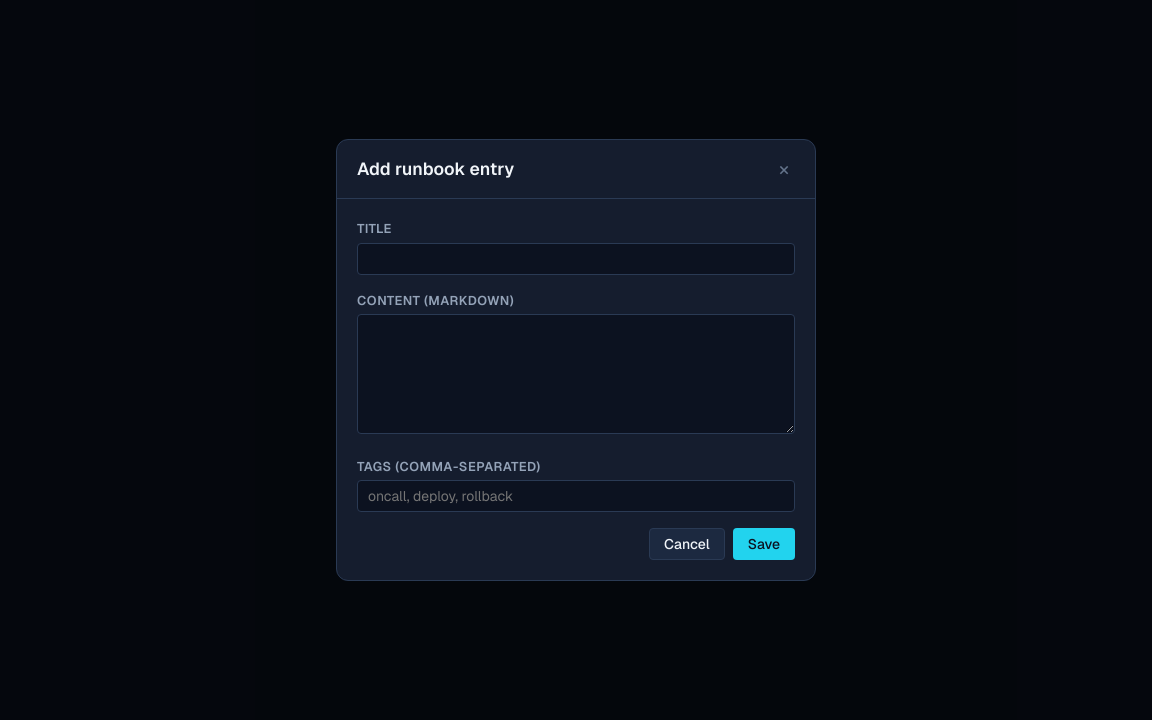
Scenario: RunbookEditor › shows server error message when apiPost throws
Step 1. Type "t" into the 1st field → (576, 259), box top-left (357, 243), bottom-right (795, 275)
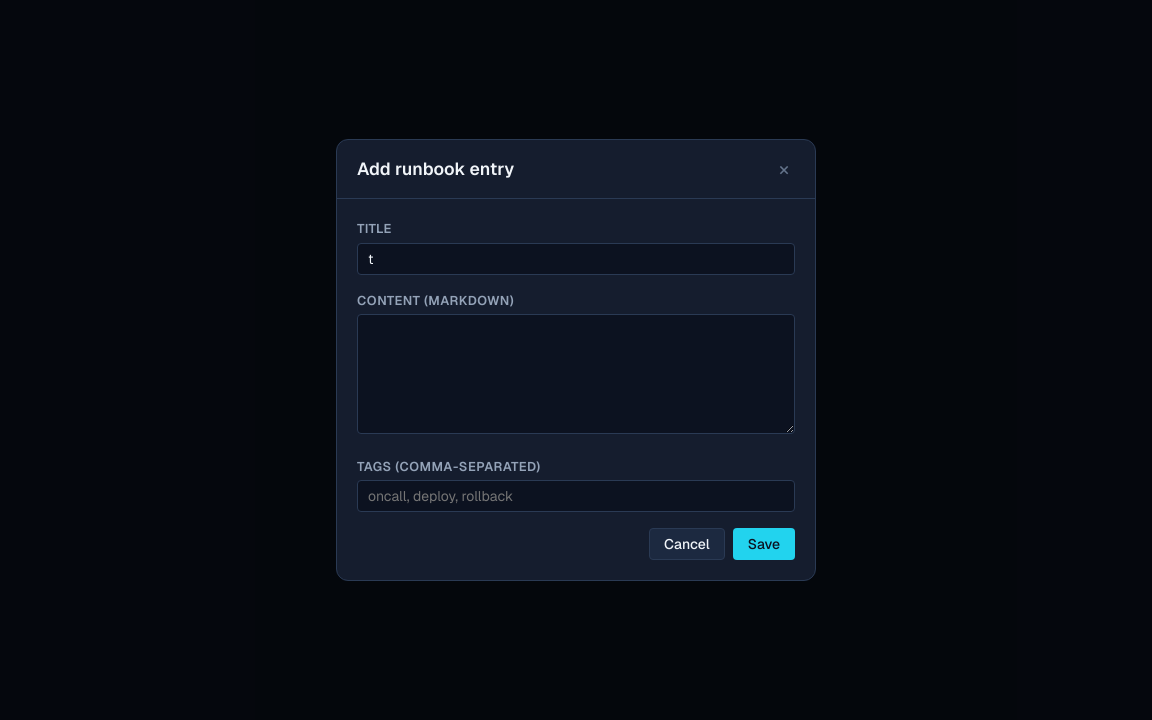
Step 2. Type "c" into the text box → (576, 374), box top-left (357, 314), bottom-right (795, 434)
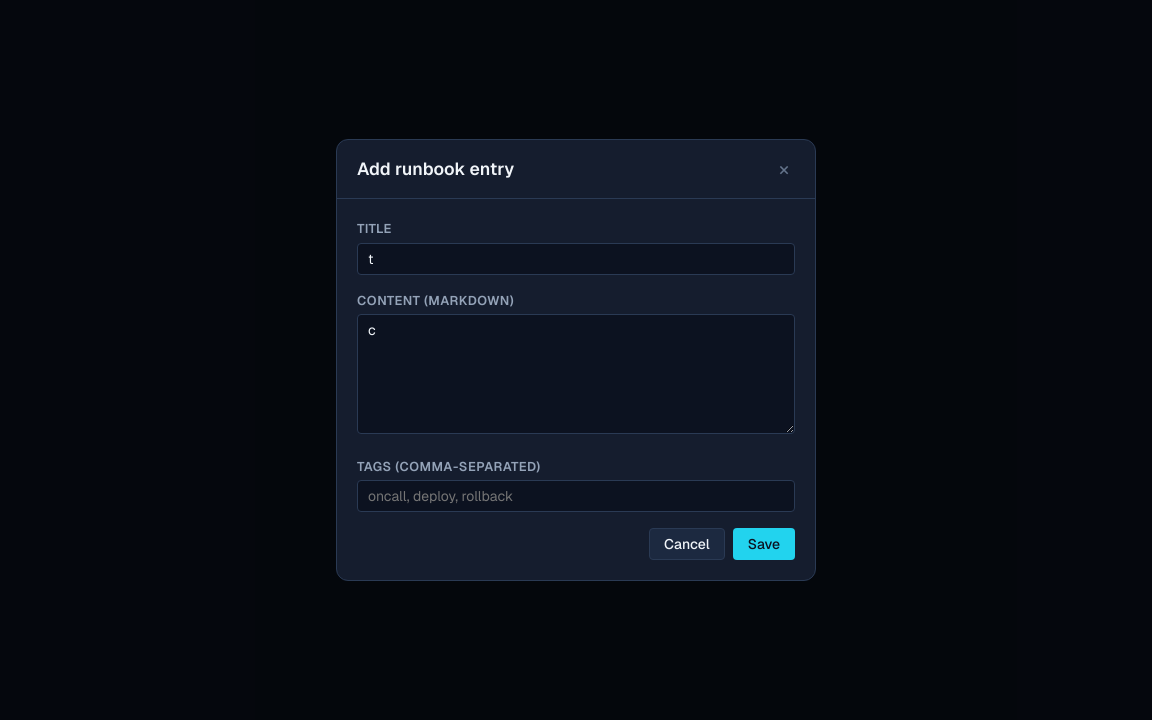
Step 3. Click the button "Save" → (764, 544), box top-left (733, 528), bottom-right (795, 560)
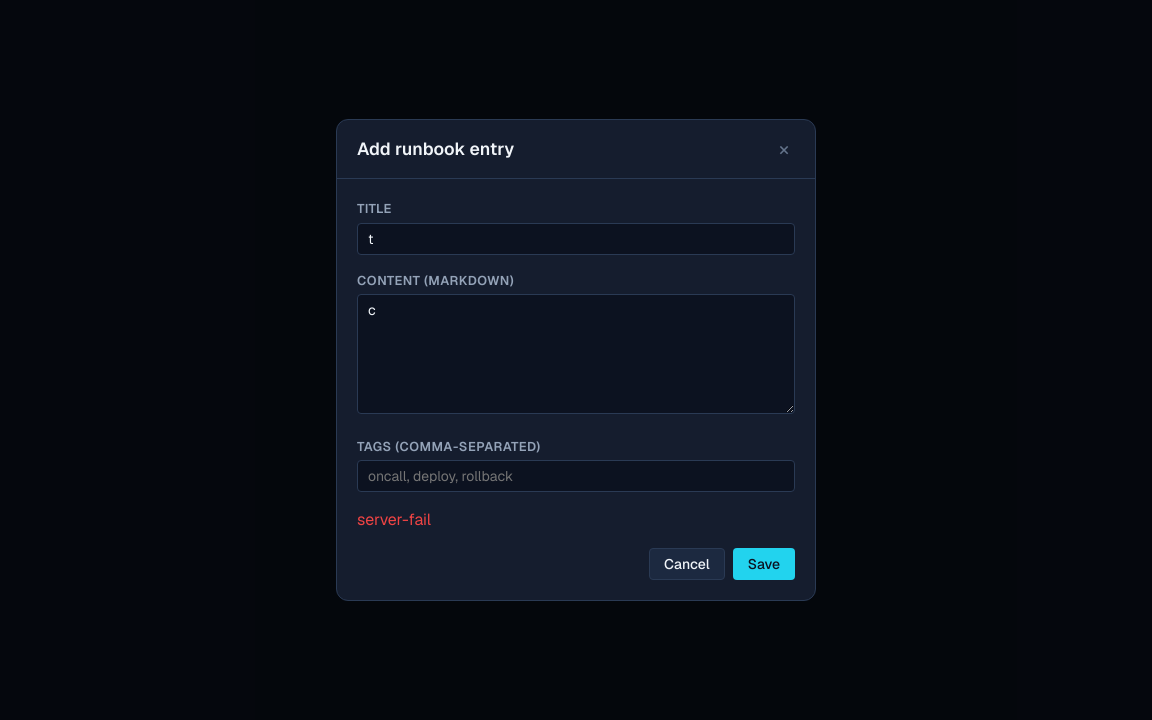
Check: the text with test id "runbook-error" reads "server-fail", box top-left (357, 509), bottom-right (431, 530)
